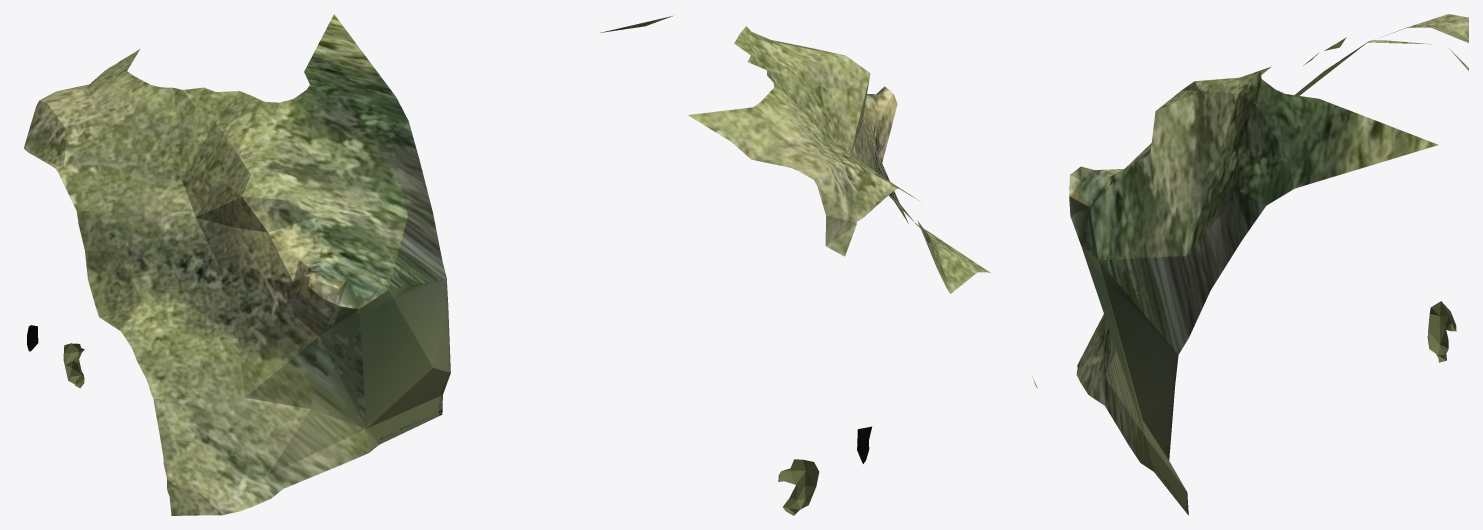
3 renders of one model, left to right at view 1: azimuth 30°, elevation 25°; view 2: azimuth 150°, elevation 25°; view 3: azimuth 270°, elevation 25°, orthographic. The views are drawn at different scales.
Bounding box in the file's own units: 5.9 × 5.9 × 5.76.
3 materials, 3 textured.
